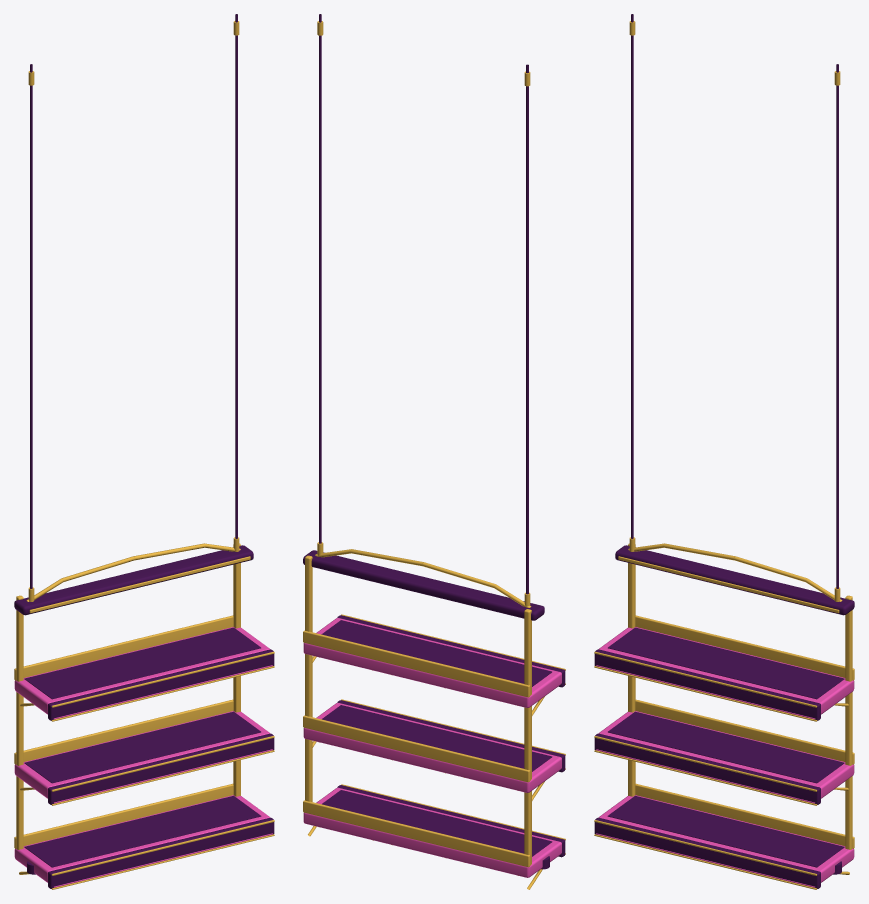
Rendered from shelf-unit.glb.
3 views of the same model, side by side, from view 1: azimuth 30°, elevation 25°; view 2: azimuth 150°, elevation 25°; view 3: azimuth 330°, elevation 25° (orthographic).
Visible parts, largest first — view 1: velvet_inlay_2, velvet_inlay_0, velvet_inlay_1, name_rail_1, name_rail_2, name_rail_0, top_crossbar, rear_lip_0, rear_lip_1, rear_lip_2, deck_0, deck_1 (+13 smaller); view 2: velvet_inlay_1, velvet_inlay_2, velvet_inlay_0, top_crossbar, deck_1, deck_0, deck_2, rear_lip_0, rear_lip_1, rear_lip_2, side_spine, side_spine.001 (+7 smaller); view 3: velvet_inlay_2, velvet_inlay_0, velvet_inlay_1, name_rail_1, name_rail_2, name_rail_0, top_crossbar, rear_lip_0, rear_lip_1, rear_lip_2, deck_0, deck_1 (+13 smaller).
Part boxes in pixels (left/top/right/bottom): velvet_inlay_2: left=24, top=795, right=261, bottom=867; velvet_inlay_0: left=24, top=627, right=260, bottom=699; velvet_inlay_1: left=24, top=711, right=260, bottom=783; name_rail_1: left=48, top=733, right=274, bottom=804; name_rail_2: left=48, top=817, right=274, bottom=888; name_rail_0: left=48, top=649, right=274, bottom=720; top_crossbar: left=14, top=545, right=253, bottom=615; rear_lip_0: left=14, top=615, right=233, bottom=680; rear_lip_1: left=14, top=699, right=233, bottom=764; rear_lip_2: left=14, top=783, right=233, bottom=848; deck_0: left=14, top=627, right=269, bottom=714; deck_1: left=14, top=711, right=270, bottom=798; velvet_inlay_1: left=322, top=705, right=552, bottom=771; velvet_inlay_2: left=322, top=790, right=552, bottom=856; velvet_inlay_0: left=321, top=620, right=551, bottom=686; top_crossbar: left=303, top=550, right=544, bottom=620; deck_1: left=303, top=703, right=561, bottom=792; deck_0: left=303, top=618, right=561, bottom=707; deck_2: left=303, top=787, right=561, bottom=877; rear_lip_0: left=303, top=630, right=530, bottom=697; rear_lip_1: left=303, top=715, right=530, bottom=782; rear_lip_2: left=303, top=800, right=530, bottom=867; side_spine: left=524, top=609, right=531, bottom=865; side_spine.001: left=305, top=555, right=312, bottom=801; velvet_inlay_2: left=607, top=795, right=844, bottom=867; velvet_inlay_0: left=608, top=627, right=844, bottom=699; velvet_inlay_1: left=608, top=711, right=844, bottom=783; name_rail_1: left=594, top=733, right=820, bottom=804; name_rail_2: left=594, top=817, right=820, bottom=888; name_rail_0: left=594, top=649, right=820, bottom=720; top_crossbar: left=615, top=545, right=854, bottom=615; rear_lip_0: left=635, top=615, right=854, bottom=680; rear_lip_1: left=635, top=699, right=854, bottom=764; rear_lip_2: left=635, top=783, right=854, bottom=848; deck_0: left=599, top=627, right=854, bottom=714; deck_1: left=598, top=711, right=854, bottom=798.
Bounding box in the file's own units: 2.7 × 9.07 × 0.766.
